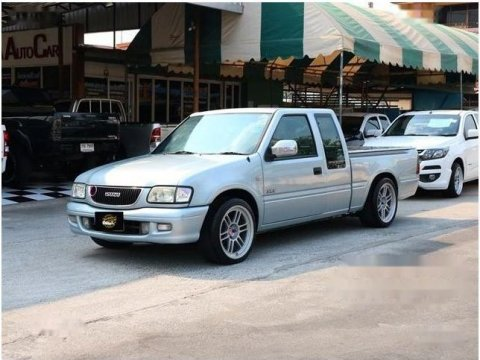pickup: (67, 104, 422, 267)
